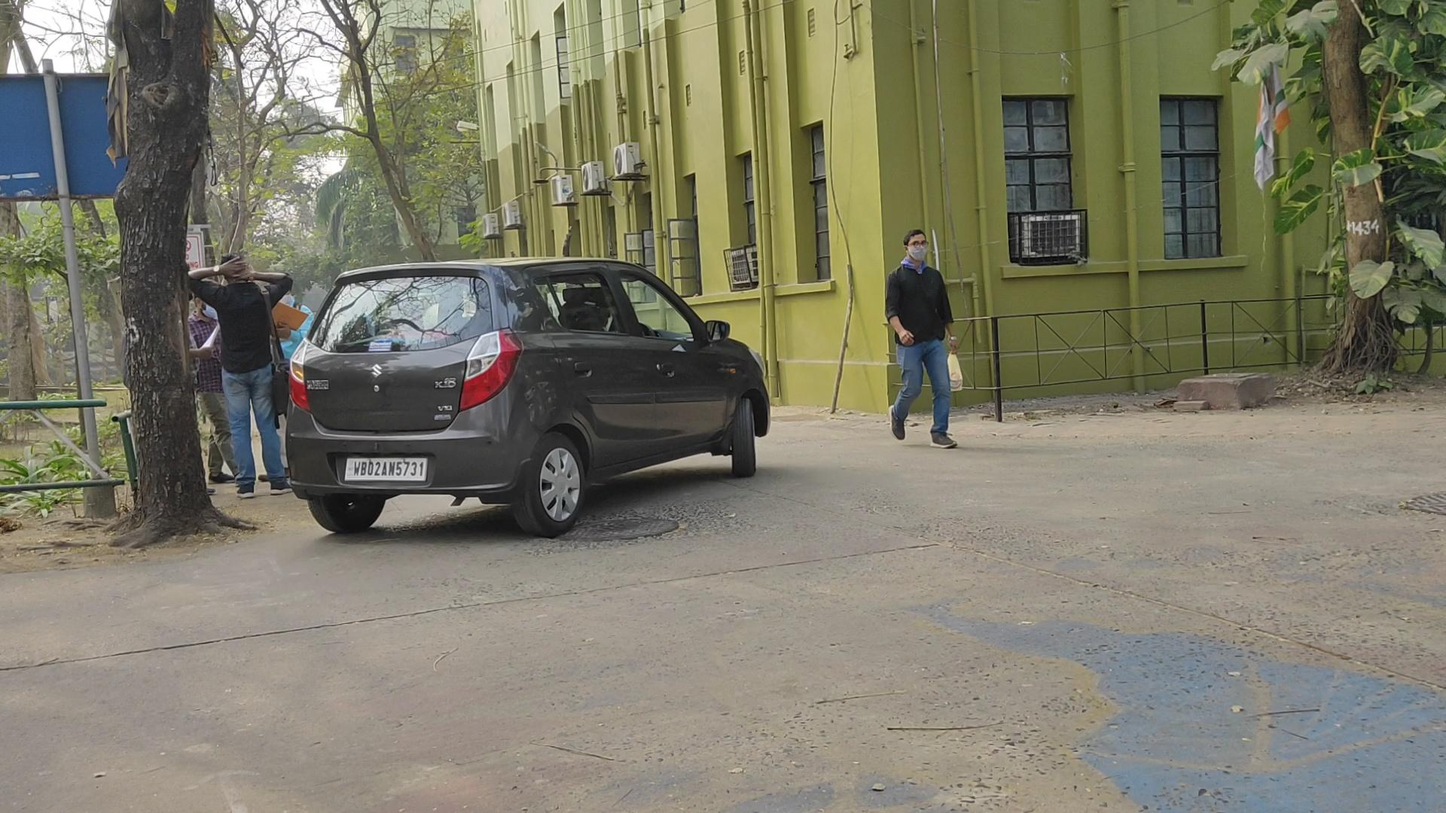car: (285, 256, 772, 538)
